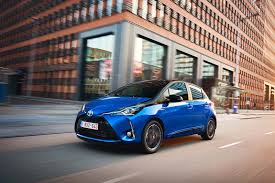car: (71, 77, 227, 155)
